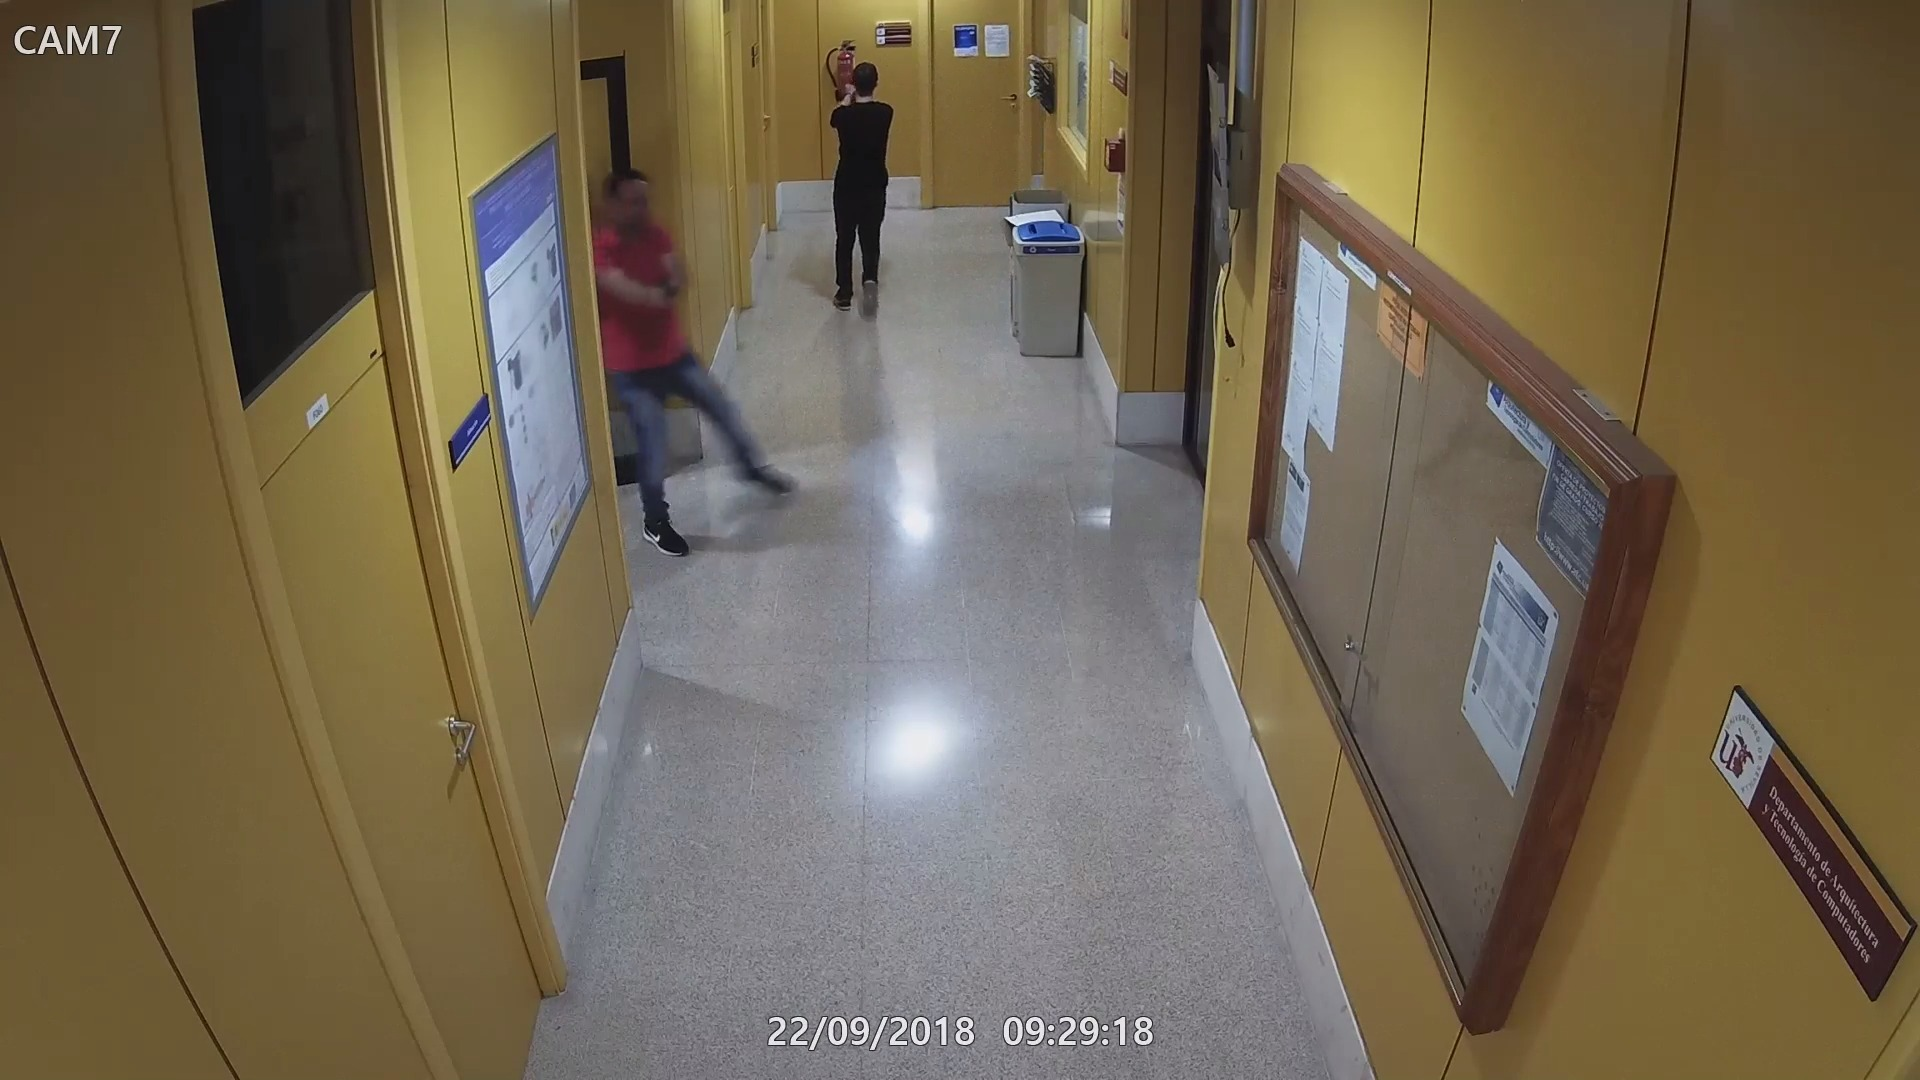Handgun: (654, 278, 686, 315), (837, 79, 864, 105)
